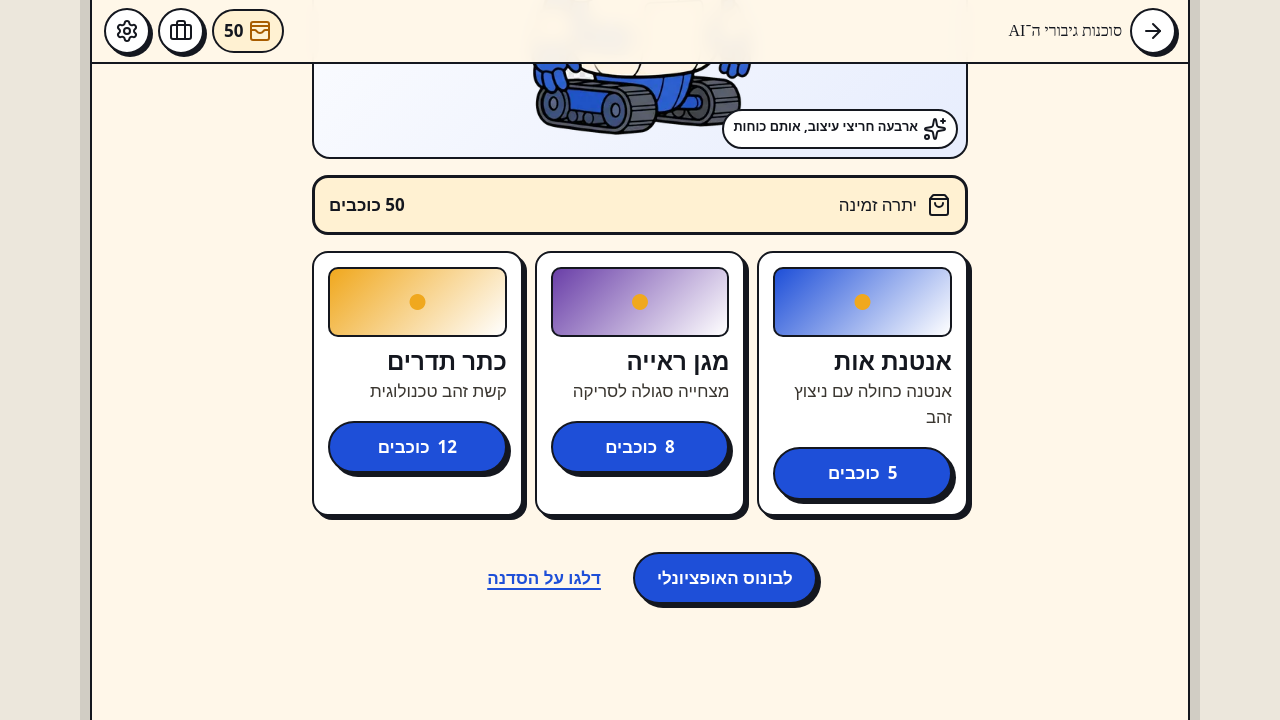
workshop preview reflects an equipped cosmetic immediately (the original reported bug) › buying an item shows a badge in the live preview at once, with no reload/navigation needed
(page scrolled)
Click the button "5 כוכבים" at (863, 473), box [773,447,952,500]
(page scrolled)
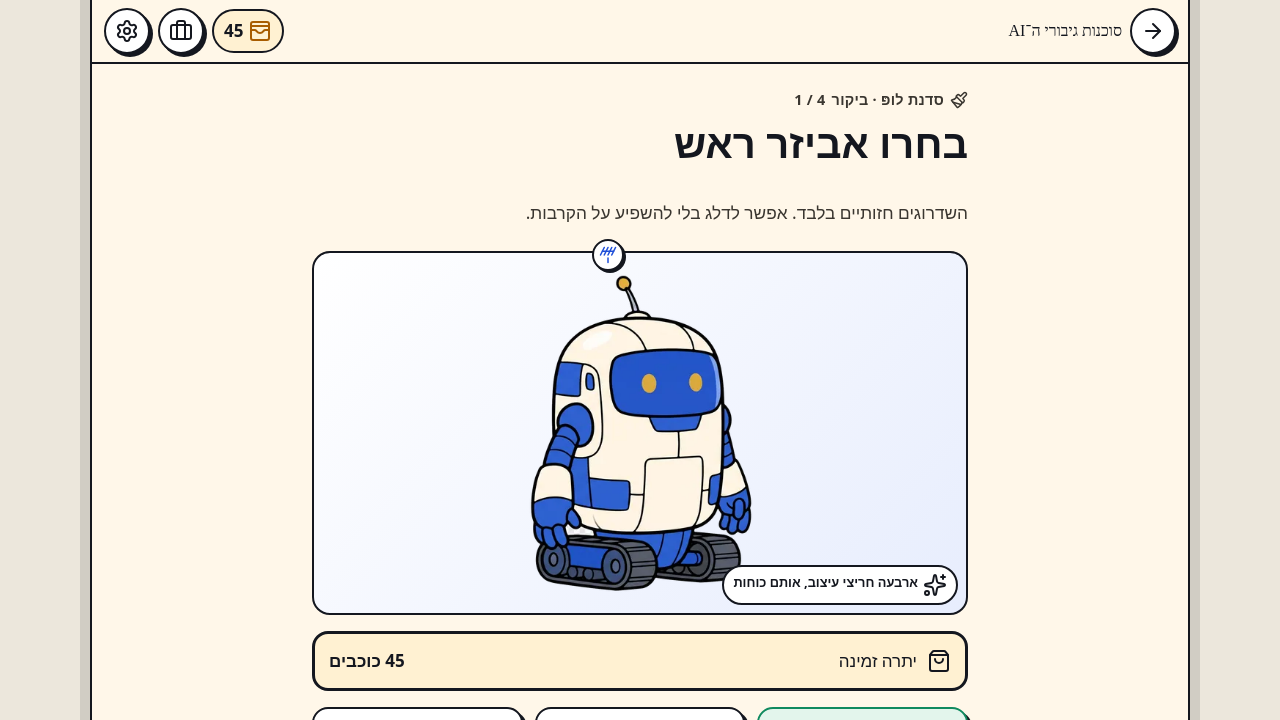
Expected: the picture with class "cosmetic-badge--head" is shown, [592,238,624,270]
